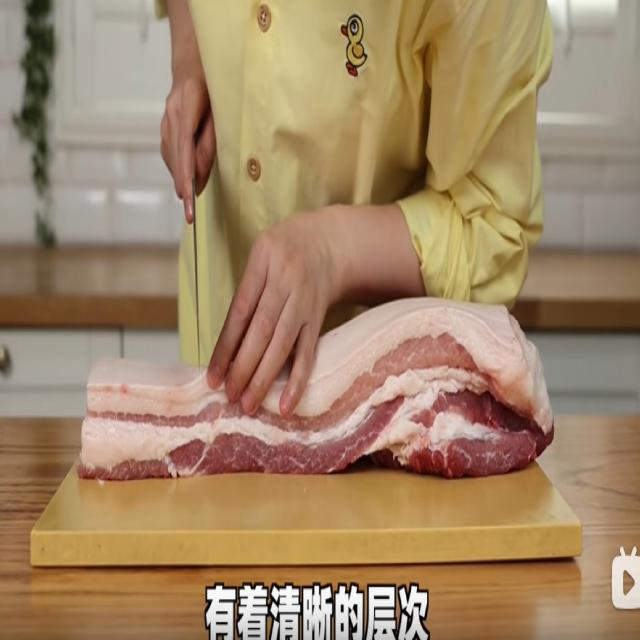--: (82, 332, 573, 490)
